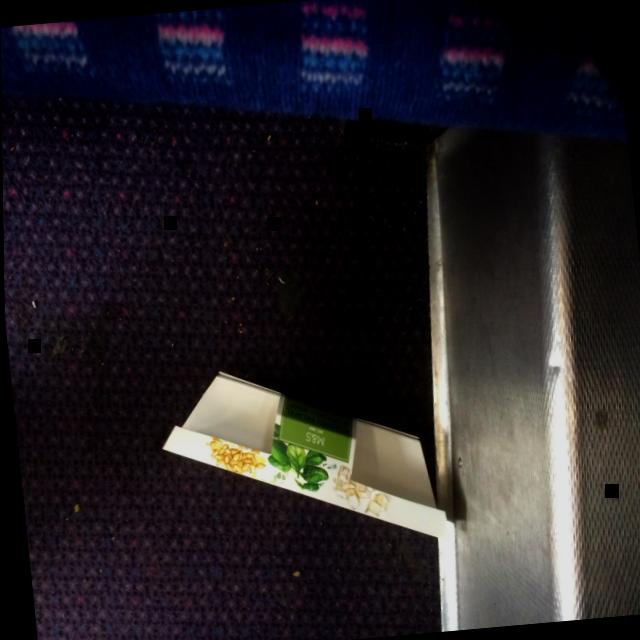Meal carton: (159, 371, 447, 541)
